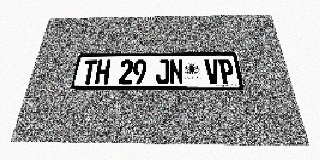2: (118, 60, 134, 84)
9: (132, 60, 147, 84)
H: (94, 60, 111, 84)
J: (156, 59, 169, 84)
N: (170, 59, 184, 84)
P: (218, 59, 235, 84)
T: (81, 60, 98, 84)
V: (204, 59, 221, 84)
